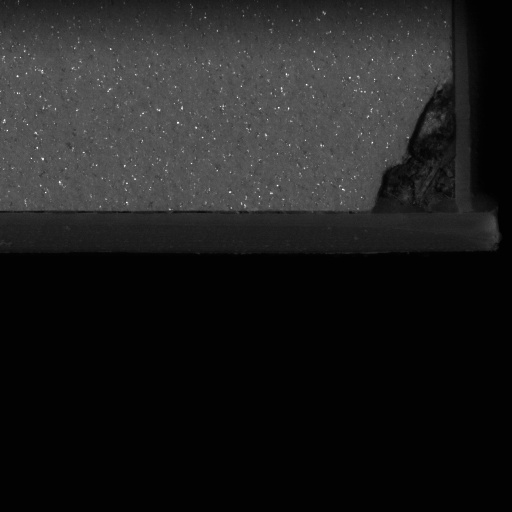bengque: (368, 78, 467, 218)
